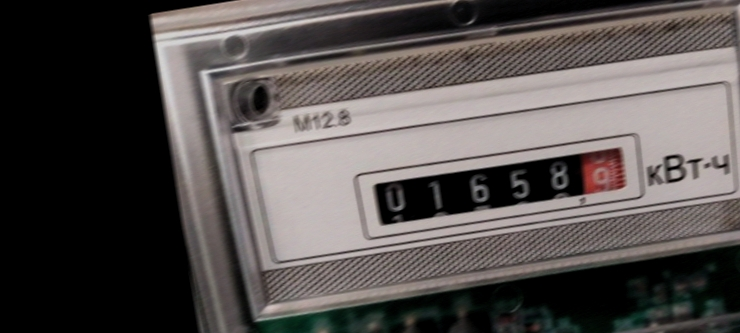0: (382, 182, 407, 215)
1: (425, 179, 447, 213)
5: (507, 168, 532, 202)
6: (467, 171, 492, 207)
8: (547, 159, 572, 193)
9: (588, 166, 614, 197)
screen: (344, 123, 653, 251)
